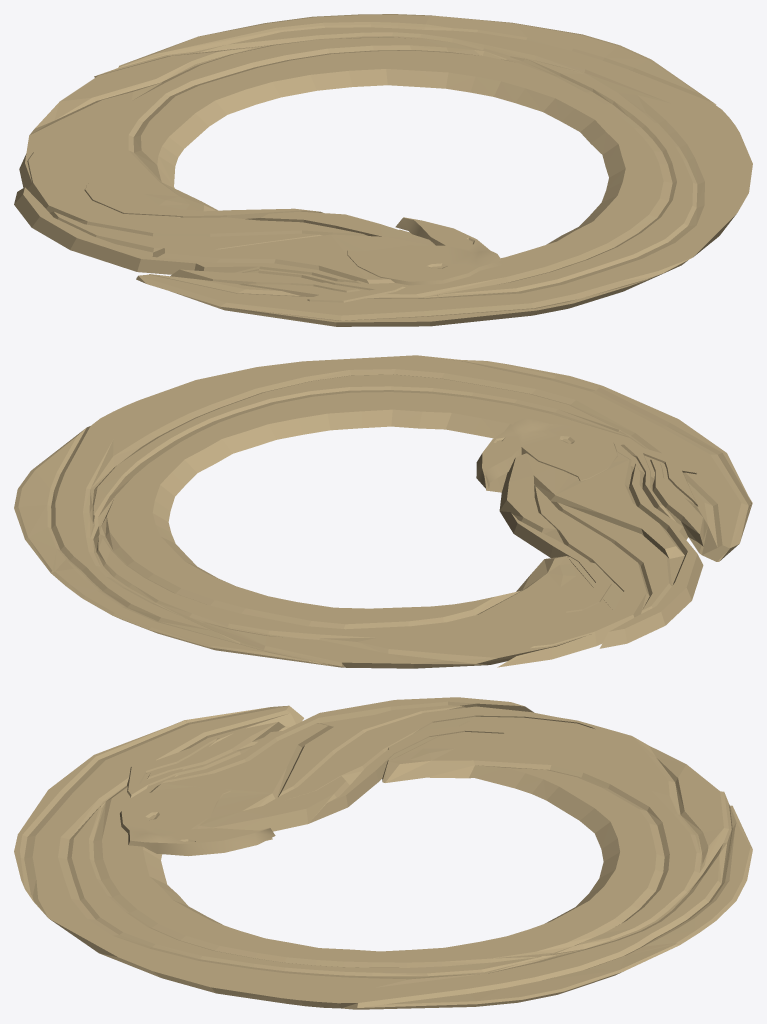
Rendered from bird-big.fbx.
3 renders of one model, top to bottom at view 1: azimuth 30°, elevation 25°; view 2: azimuth 150°, elevation 25°; view 3: azimuth 270°, elevation 25°, orthographic.
Visible parts, largest first — view 1: bird-big; view 2: bird-big; view 3: bird-big.
Part boxes in pixels (x1,y1,x2,y2): bird-big: (14,14,752,326); bird-big: (14,355,752,668); bird-big: (14,697,752,1009).
Bounding box in the file's own units: 961 × 22.08 × 970.
